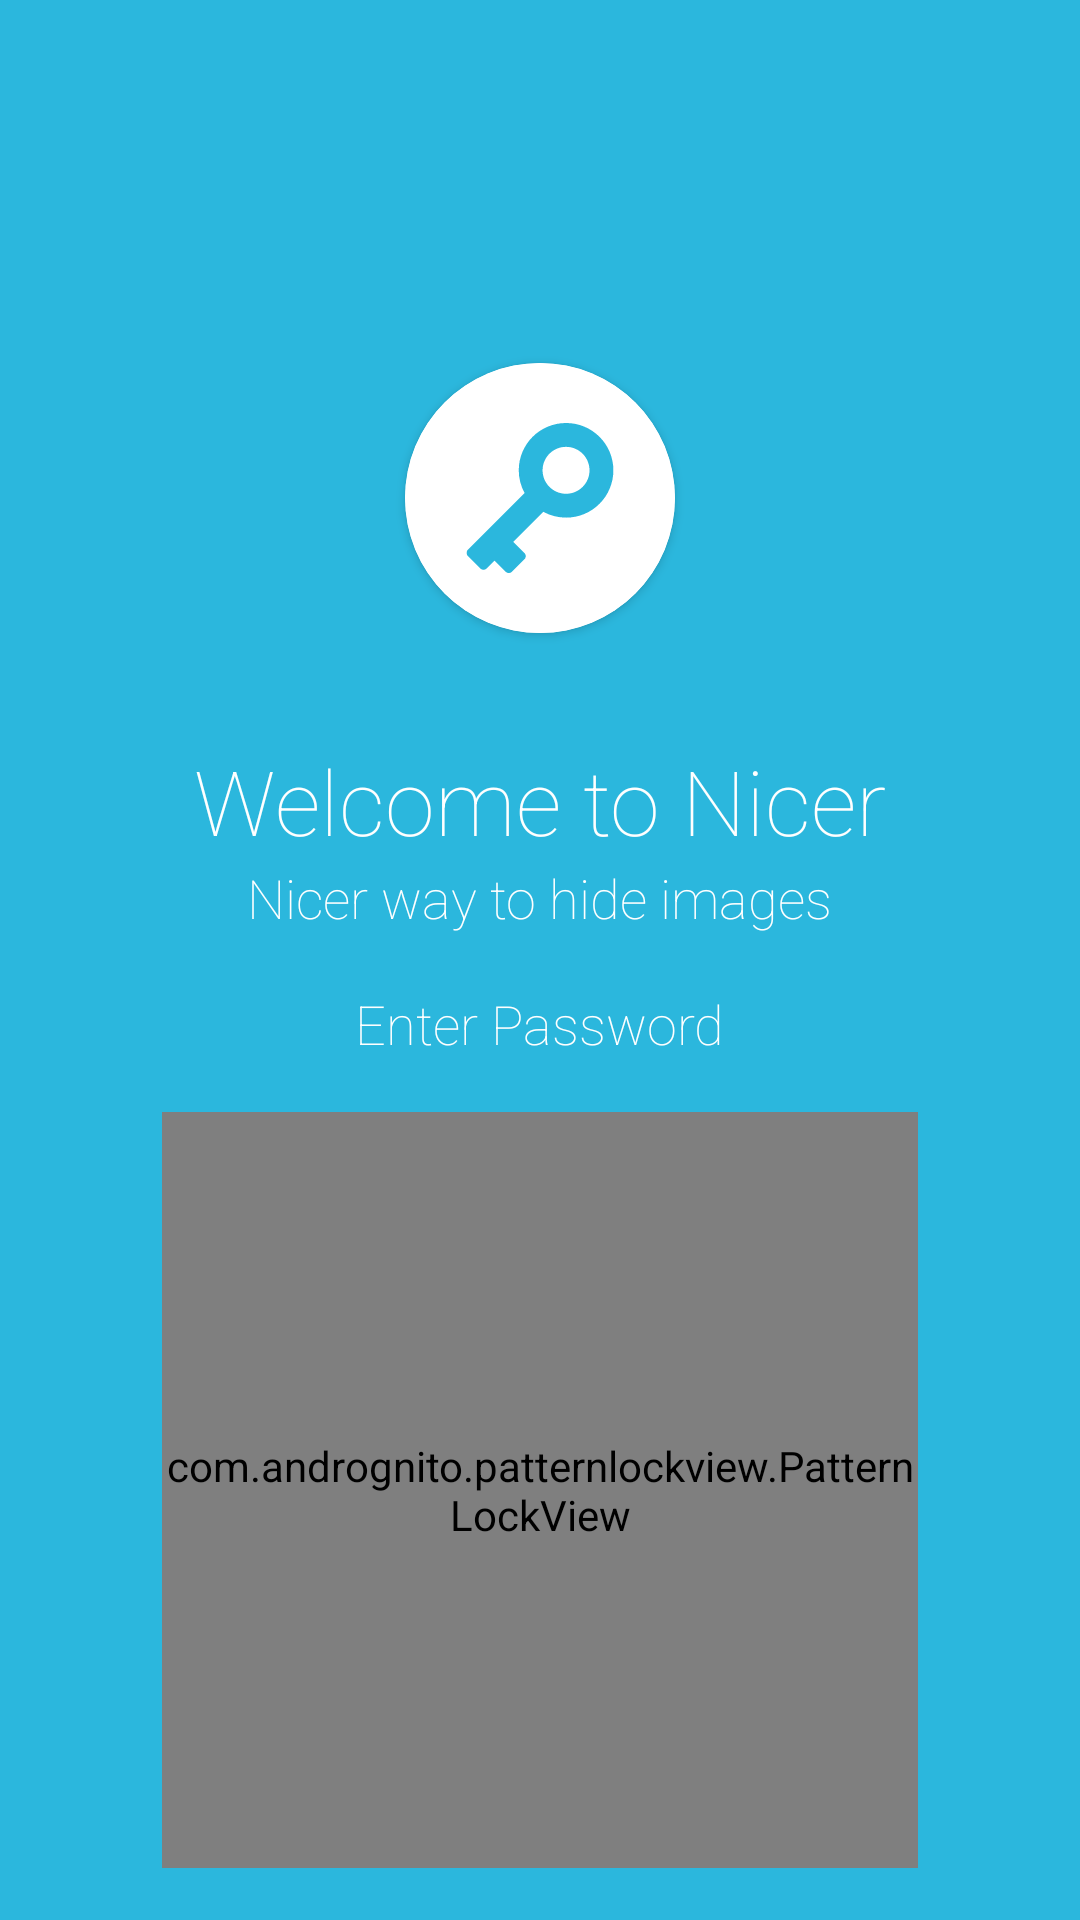

Point at icon controls on the screen. Image size 1080px x 1920px, points as (x=x, y=y).
vpn key: (x=540, y=498)
